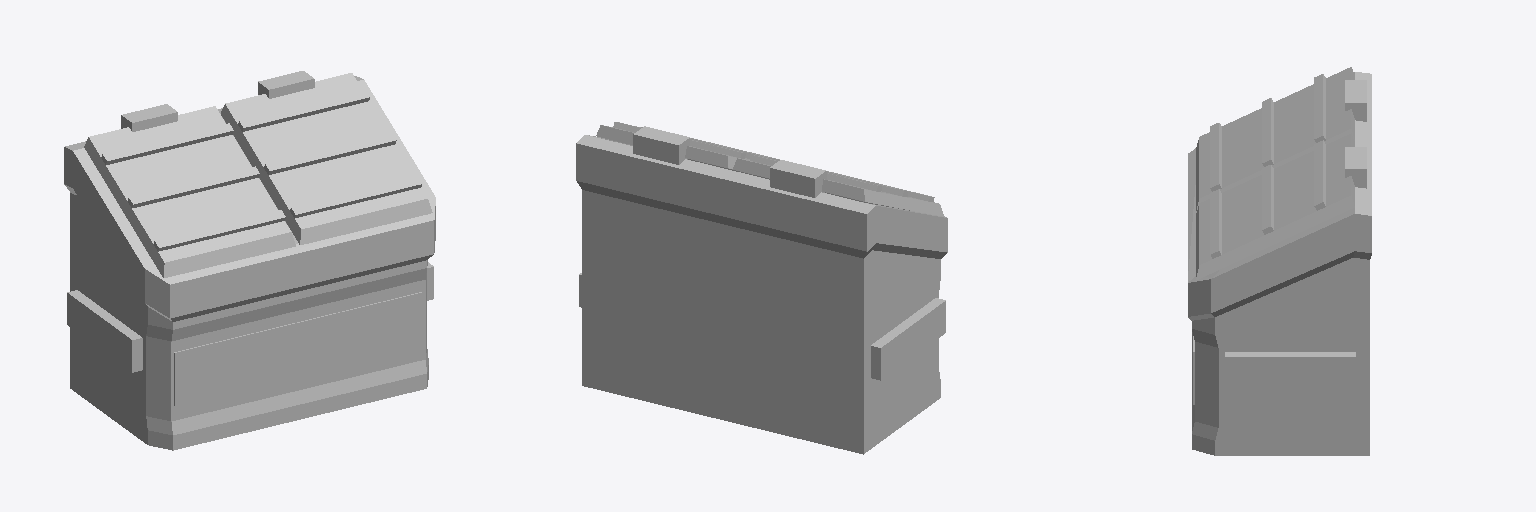
3 renders of one model, left to right at view 1: azimuth 30°, elevation 25°; view 2: azimuth 150°, elevation 25°; view 3: azimuth 270°, elevation 25°, orthographic.
Visible parts, largest first — view 1: TrashContainer.001_Cube.119; view 2: TrashContainer.001_Cube.119; view 3: TrashContainer.001_Cube.119.
Boxes of the visible parts, box(x1,y1,x2,y2) form: TrashContainer.001_Cube.119: box(64, 71, 435, 450); TrashContainer.001_Cube.119: box(576, 122, 947, 454); TrashContainer.001_Cube.119: box(1188, 67, 1371, 455).
Bounding box in the file's own units: 200 × 166 × 106.